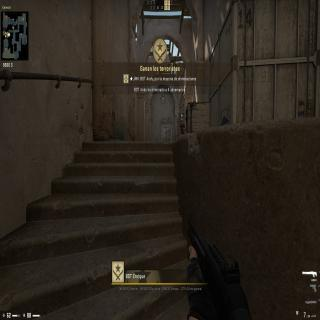T-Head: (181, 118, 183, 124)
